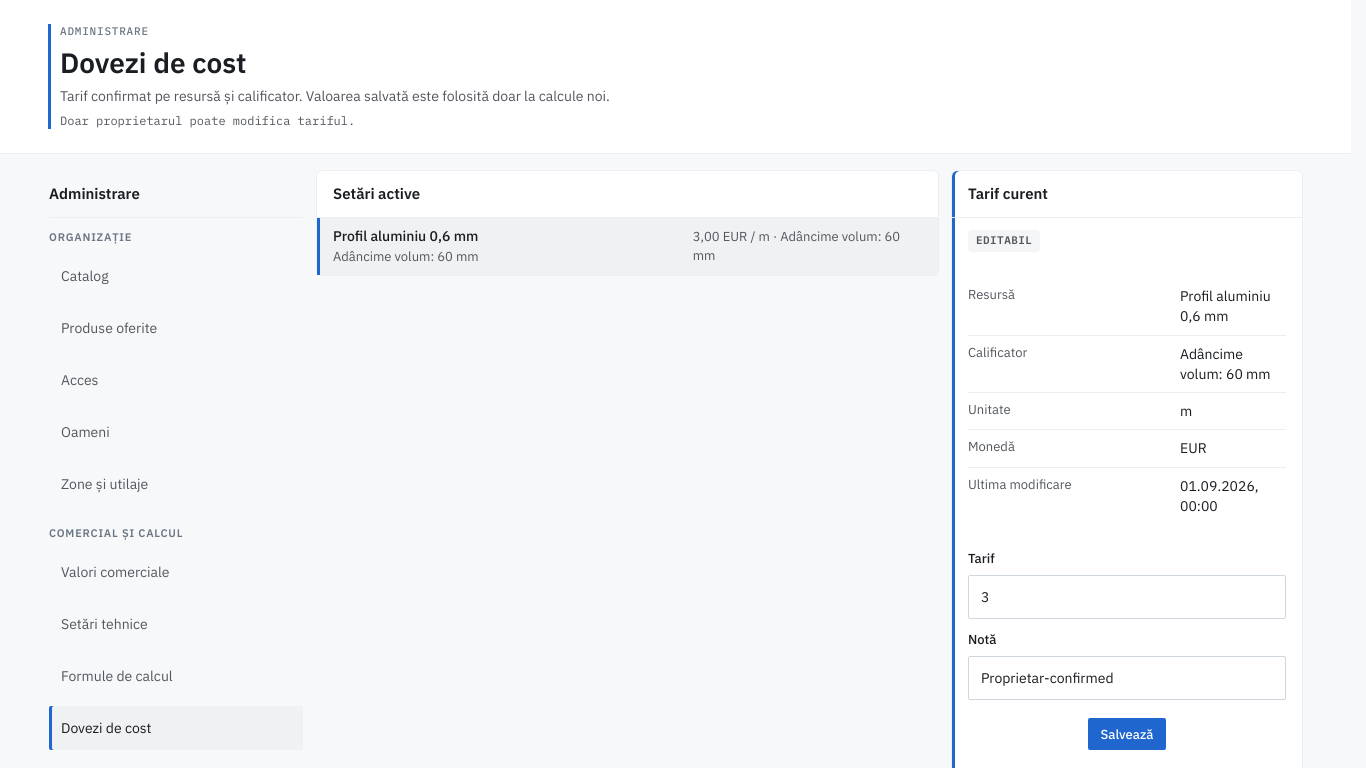
Scenario: ResourcesAdminPage › omits a blank note instead of injecting harness text
The width and height of the screenshot is (1366, 768).
Expected: the field labelled "Tarif" is shown, [968,575,1286,619]
Clear the field labelled "Notă". click: (1127, 678)
box: [968,656,1286,700]
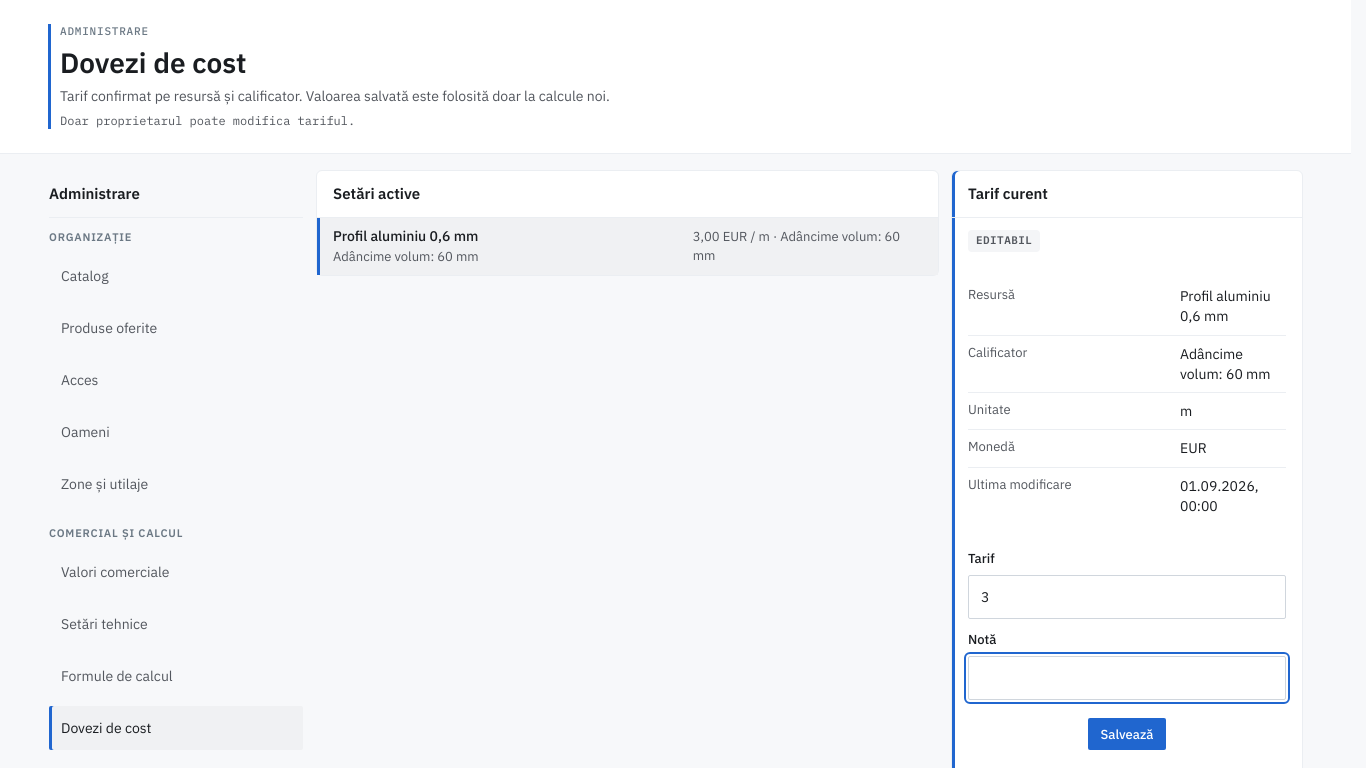
Replace the text in the field labelled "Tarif" with "3.20". click: (1127, 597)
box: [968,575,1286,619]
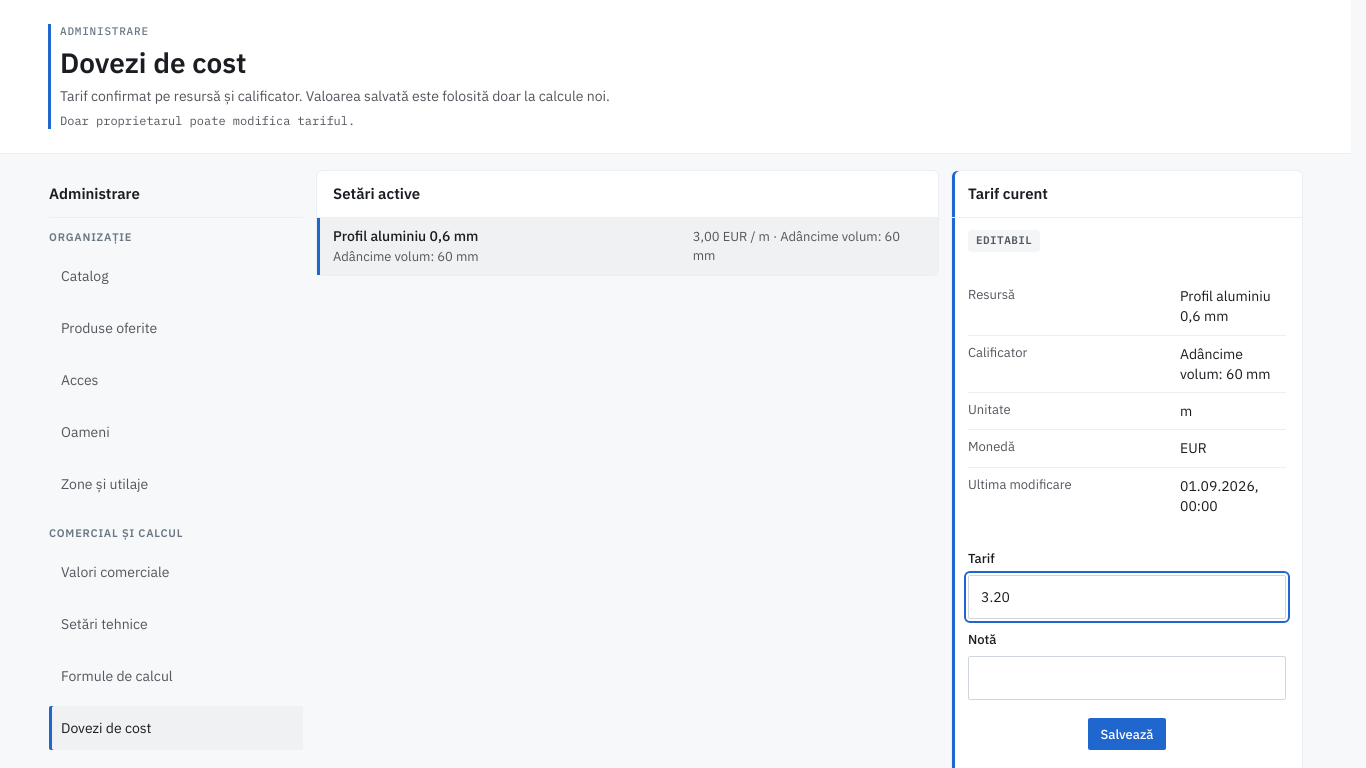
Click the button "Salvează". click: (1127, 734)
box: [968,712,1286,756]
(page scrolled)
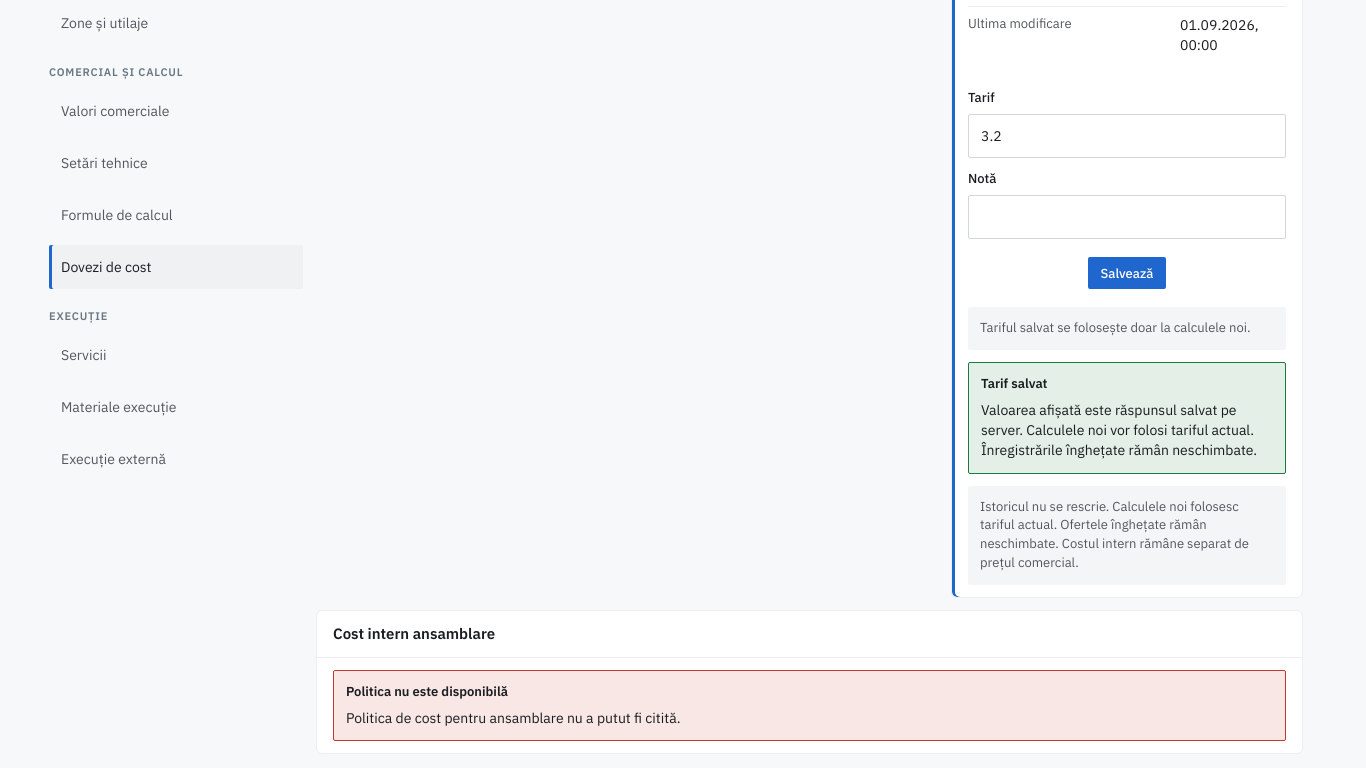
Expected: the text "Tarif salvat" is shown, [981,375,1048,392]
